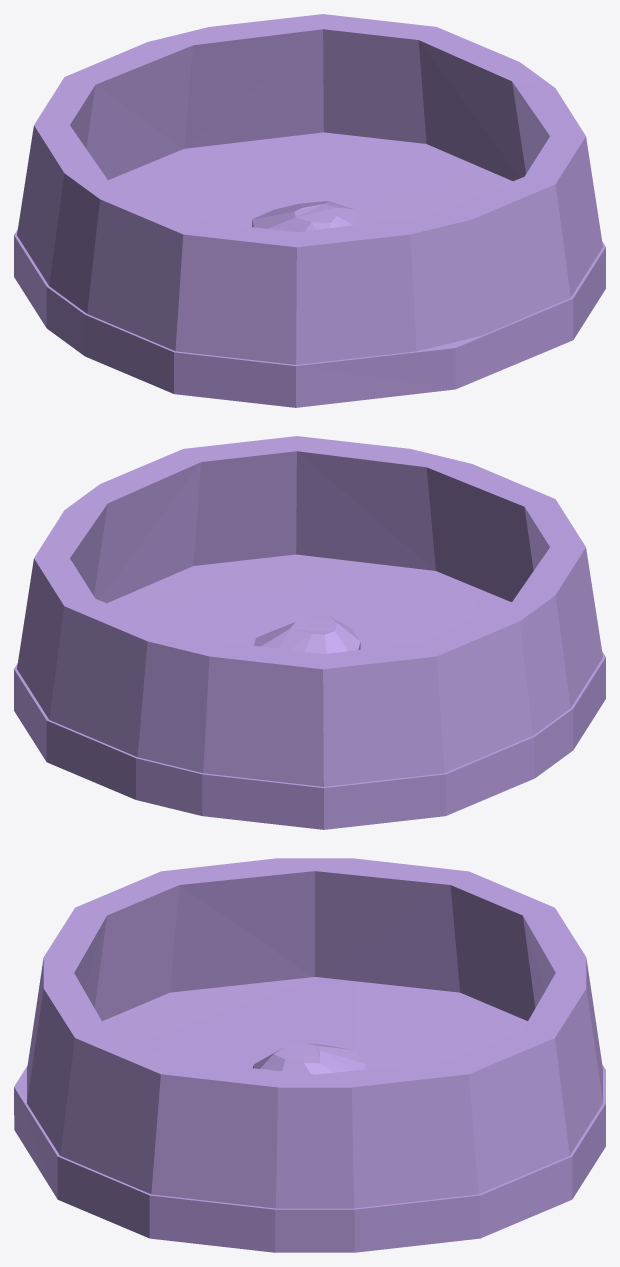
The model's file is stationary-mortar.glb.
3 views of the same model, one above another, from view 1: azimuth 30°, elevation 25°; view 2: azimuth 150°, elevation 25°; view 3: azimuth 270°, elevation 25° (orthographic). The views are drawn at different scales.
Parts seen in each view (by area): view 1: CC_Mortar_Base; view 2: CC_Mortar_Base; view 3: CC_Mortar_Base.
Part boxes in pixels (box(x1,y1,x2,y2)): CC_Mortar_Base: box(14, 14, 605, 407); CC_Mortar_Base: box(14, 436, 605, 829); CC_Mortar_Base: box(14, 858, 605, 1252).
Bounding box in the file's own units: 4.49 × 1.34 × 4.56.
